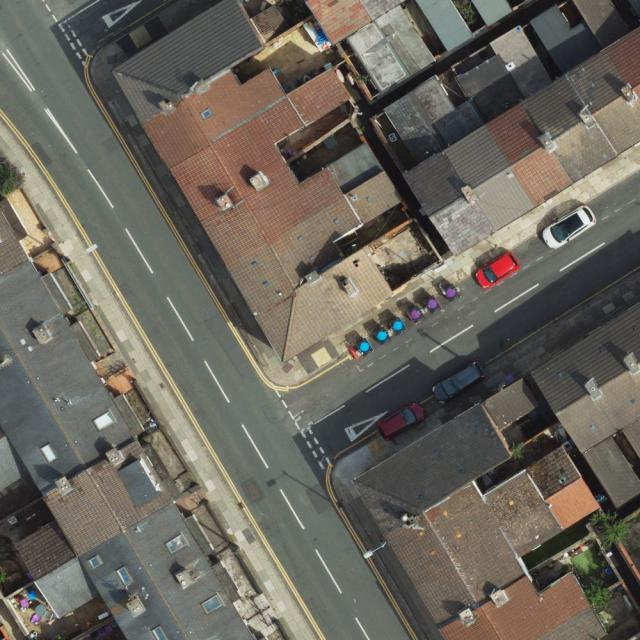roof: (1, 200, 259, 640), (114, 0, 403, 363), (350, 374, 608, 640), (385, 0, 640, 258), (534, 302, 640, 509), (309, 1, 436, 92), (417, 0, 475, 52), (471, 0, 515, 26)
skylight: (164, 530, 193, 556), (90, 409, 118, 434), (199, 593, 224, 615), (38, 444, 61, 466), (116, 564, 134, 587), (149, 623, 172, 640), (87, 553, 104, 570), (199, 105, 216, 121)
